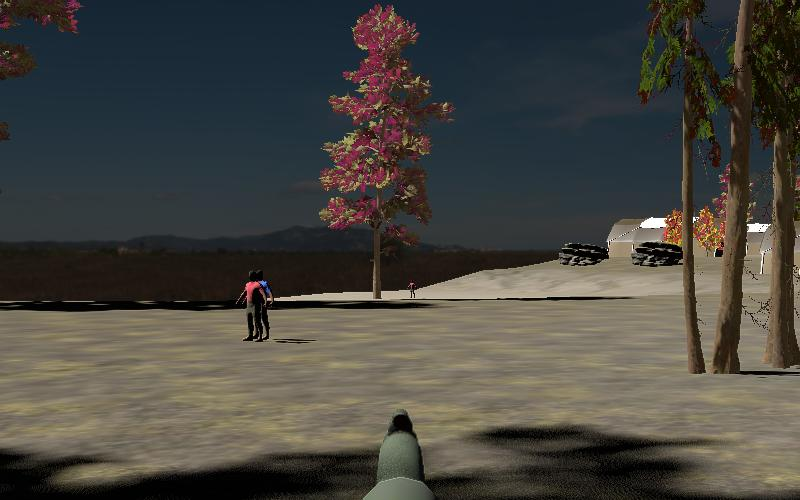Human: (236, 269, 267, 343), (255, 269, 275, 332), (406, 278, 419, 300)
